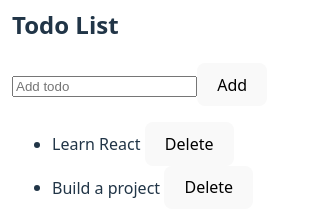
Test: TodoList Component › can delete a todo
Click the button "Delete" next to "Learn React" at point(189, 144), box x1=145 y1=122 x2=234 y2=166
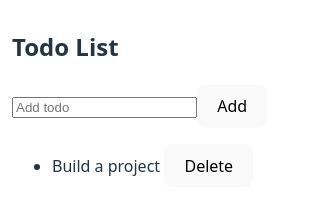
Now the list item "Learn React" is gone
